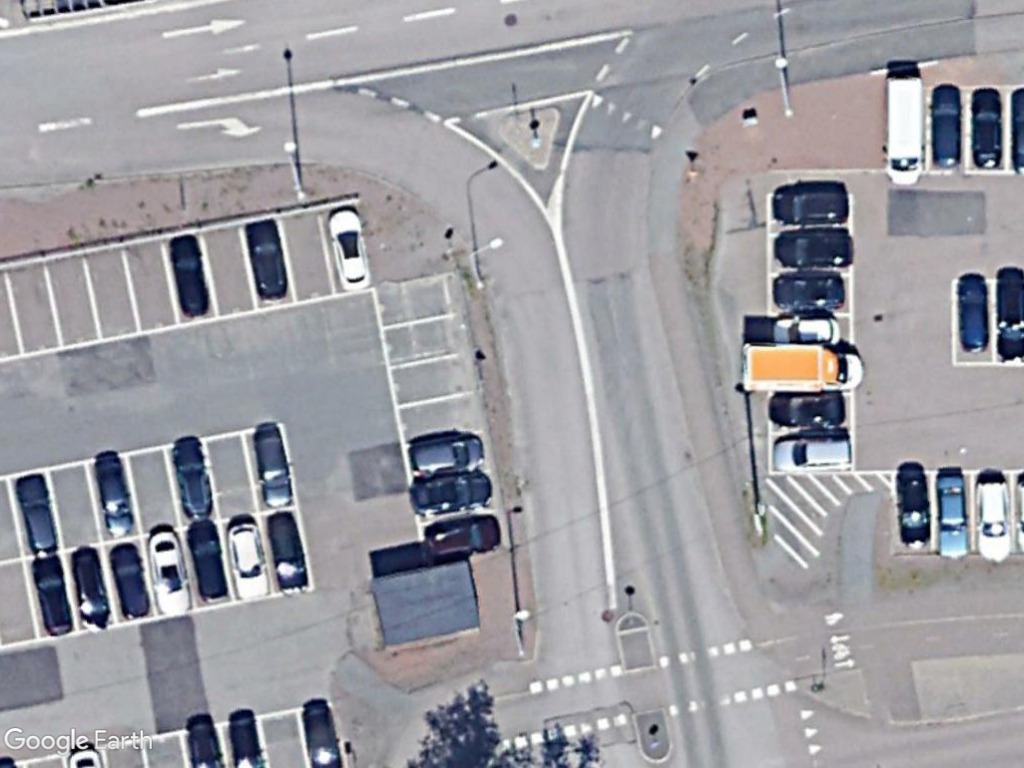car: (87, 448, 140, 547), (12, 469, 67, 563), (417, 508, 507, 565), (405, 465, 496, 521), (143, 522, 196, 618), (223, 514, 275, 608), (243, 214, 296, 306), (104, 535, 157, 627), (972, 472, 1021, 570), (262, 502, 312, 597), (167, 435, 217, 528), (324, 204, 374, 296), (890, 459, 937, 555), (930, 467, 976, 565), (248, 421, 296, 514), (68, 540, 117, 631), (405, 429, 489, 481), (167, 230, 213, 322), (762, 431, 860, 474), (765, 223, 856, 269), (28, 550, 76, 637), (187, 515, 232, 606), (762, 186, 854, 230), (929, 77, 966, 174), (968, 81, 1006, 174), (765, 386, 847, 429), (955, 269, 993, 361), (768, 272, 851, 313), (764, 312, 849, 349)
van: (735, 339, 870, 394), (873, 70, 930, 193)
